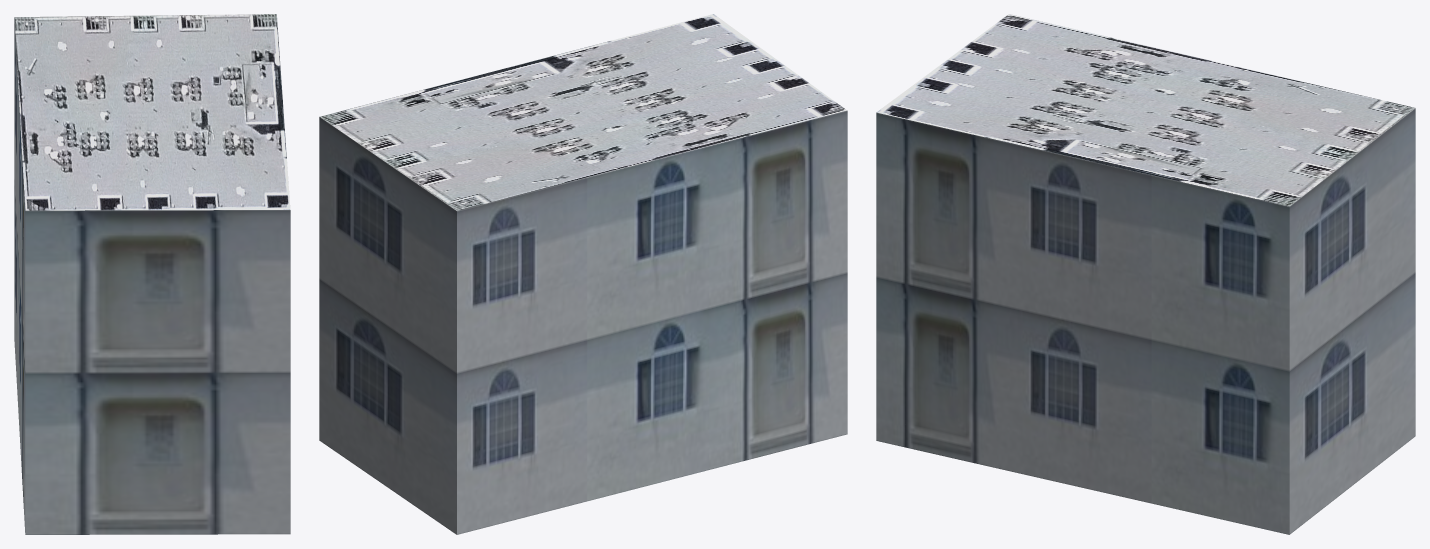
The model's file is ResTex__1137.fbx.
The picture shows the model from 3 angles, left to right: view 1: azimuth 30°, elevation 25°; view 2: azimuth 150°, elevation 25°; view 3: azimuth 270°, elevation 25°; orthographic projection.
Visible parts, largest first — view 1: CityEngineMaterial_17_m, CityEngineMaterial_8_m; view 2: CityEngineMaterial_17_m, CityEngineMaterial_8_m; view 3: CityEngineMaterial_17_m, CityEngineMaterial_8_m.
Part boxes in pixels (x1,y1,x2,y2): CityEngineMaterial_17_m: (14, 17, 290, 534); CityEngineMaterial_8_m: (14, 14, 290, 210); CityEngineMaterial_17_m: (319, 110, 847, 534); CityEngineMaterial_8_m: (320, 14, 846, 210); CityEngineMaterial_17_m: (876, 108, 1415, 534); CityEngineMaterial_8_m: (876, 14, 1415, 206).
Bounding box in the file's own units: 7.55 × 6 × 8.94.
2 materials, 2 textured.
